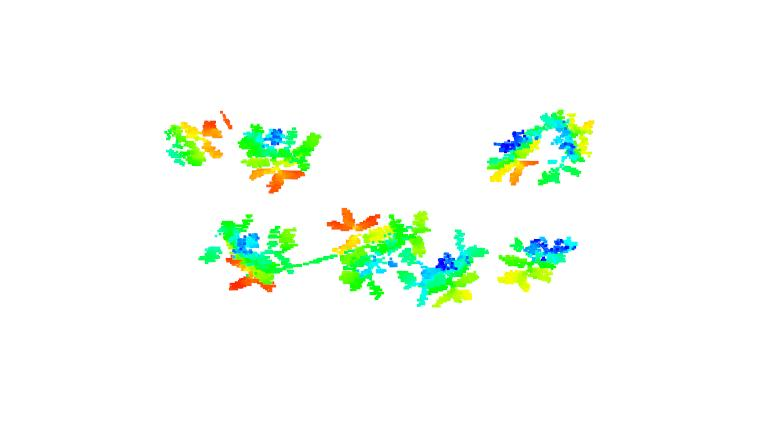chickpea: (328, 206, 431, 301), (202, 215, 311, 293), (397, 228, 490, 313), (237, 122, 325, 195), (534, 111, 602, 187), (497, 235, 578, 289), (487, 125, 544, 188), (164, 118, 228, 172)
